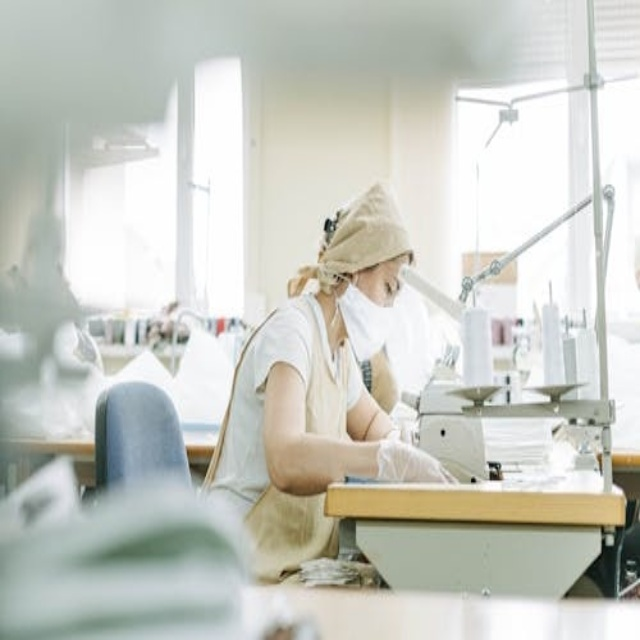Mascara: (337, 276, 400, 361)
Sin_gafas: (376, 268, 403, 301)
